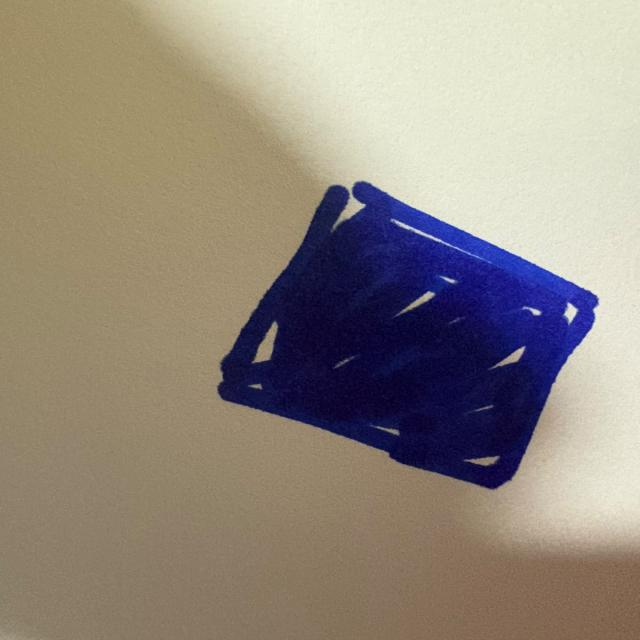Square: (219, 182, 597, 489)
